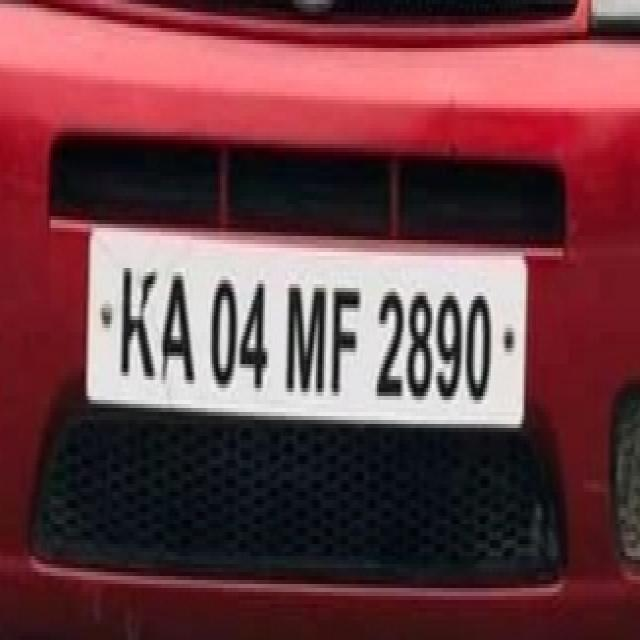0: (206, 264, 240, 396), (465, 283, 499, 414)
4: (240, 266, 274, 406)
8: (406, 274, 434, 416)
9: (432, 280, 464, 410)
A: (161, 260, 197, 398)
F: (324, 273, 370, 403)
K: (113, 256, 159, 386)
M: (282, 272, 332, 405)
